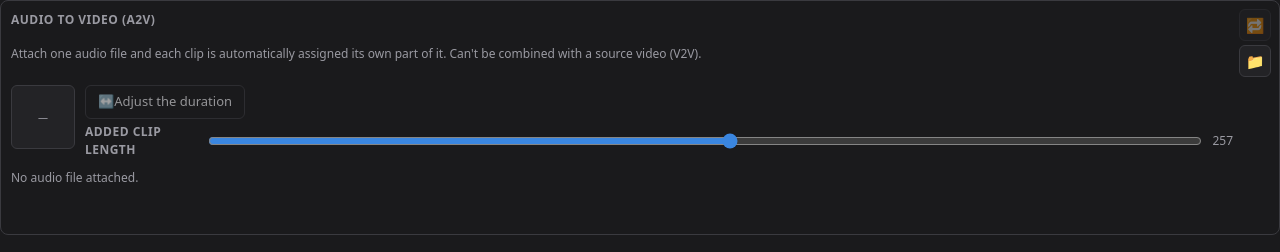
Test: ChainAudioPanel (§1-16 長尺A2V) › the 'added clip length' slider › moving it updates the form value and the readout
The width and height of the screenshot is (1280, 252).
Set the slider to "121": {"x": 448, "y": 140} [208,132,1202,148]
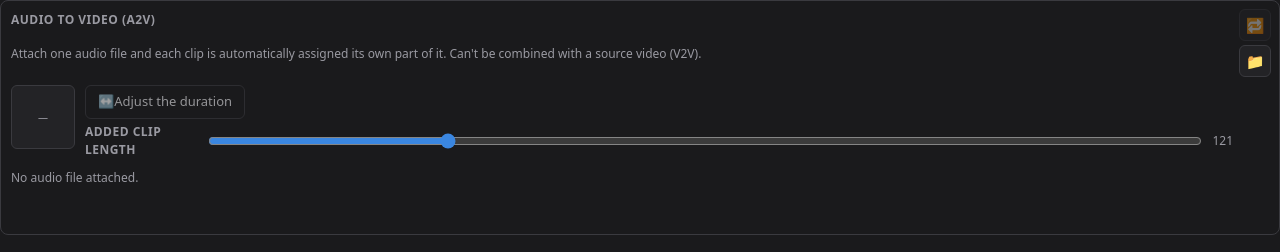
Result: the text "121" is shown at [1212,132,1233,150]
